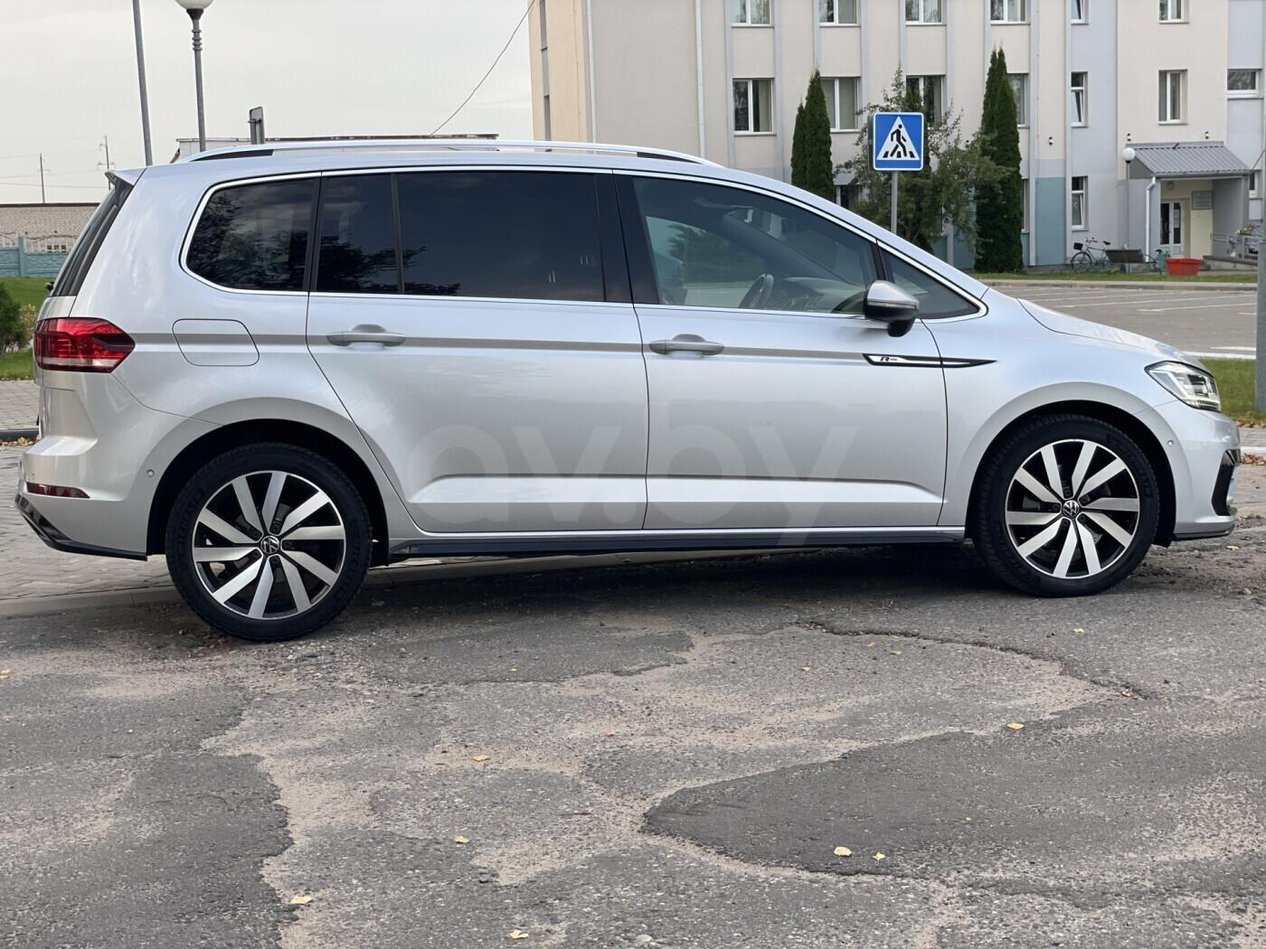Touran_2015: (10, 134, 1241, 637)
